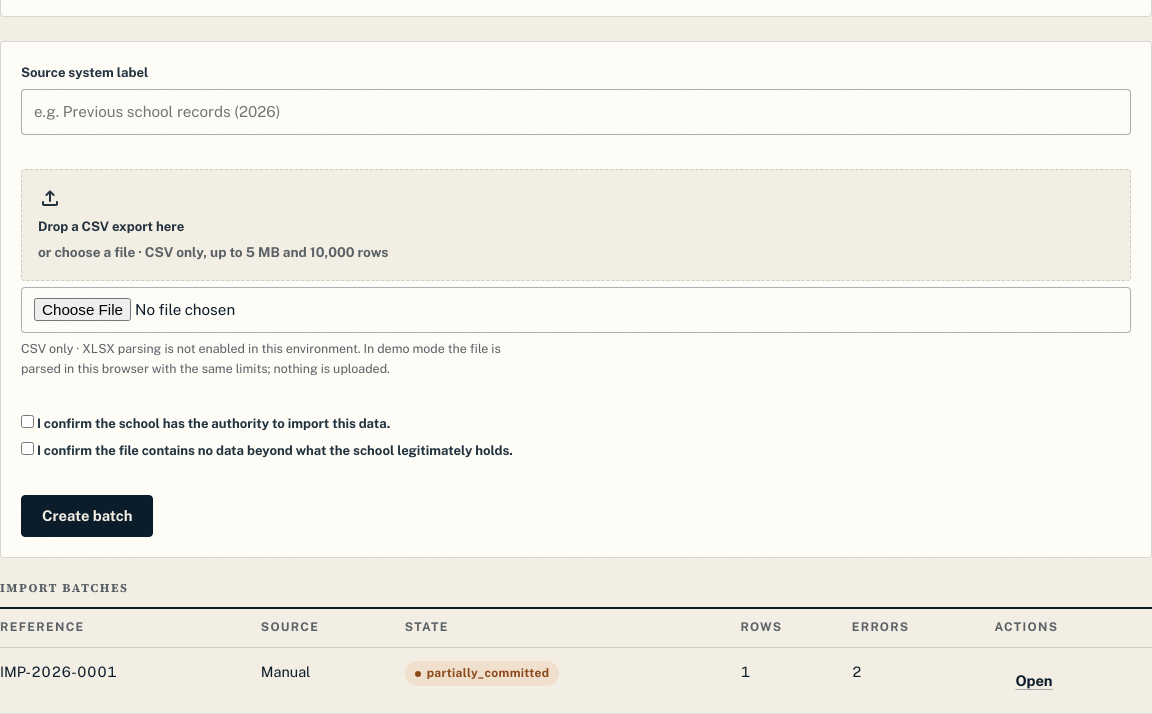
imports workspace › renders per-row outcomes and the retry path when a partially committed batch is reopened
(page scrolled)
Click the button "Open" at (1034, 681), box x1=994 y1=660 x2=1074 y2=701
(page scrolled)
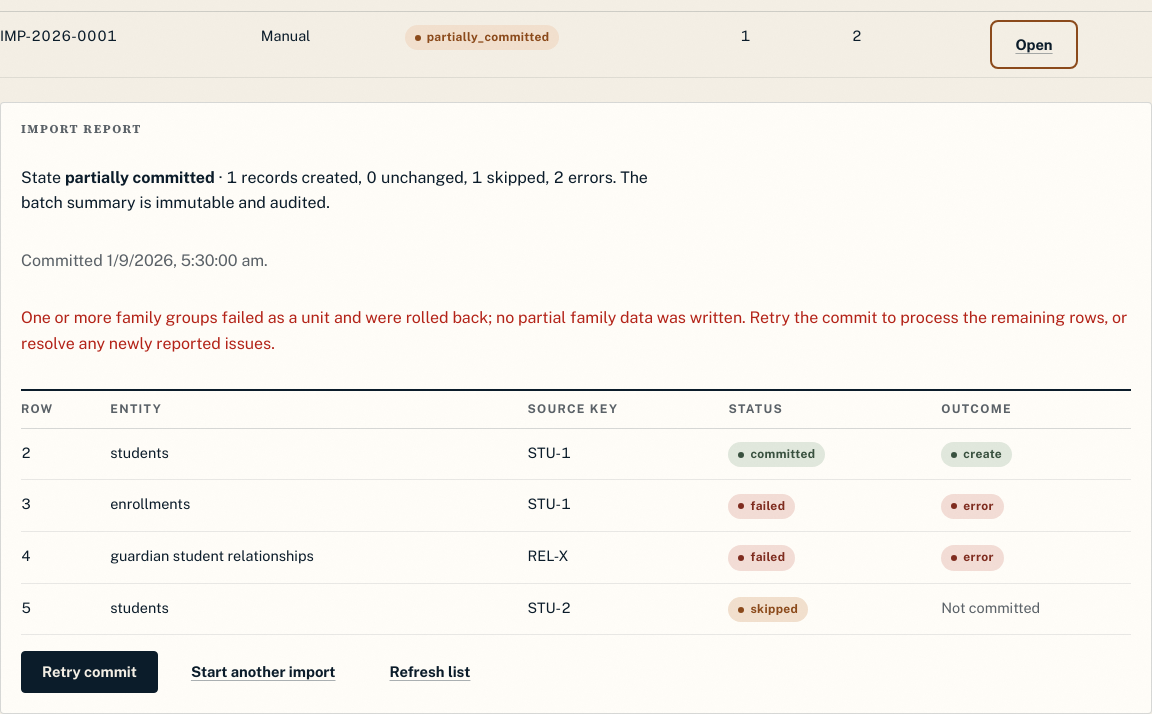
Now the heading "Import report" is shown, box x1=21 y1=121 x2=142 y2=137
Now the text "STU-1" is shown 2 times, box x1=528 y1=429 x2=728 y2=480; x1=528 y1=480 x2=728 y2=532
Now the text "REL-X" is shown, box x1=528 y1=532 x2=728 y2=583
Click the button "Retry commit" at (89, 672), box x1=21 y1=651 x2=158 y2=693
(page scrolled)
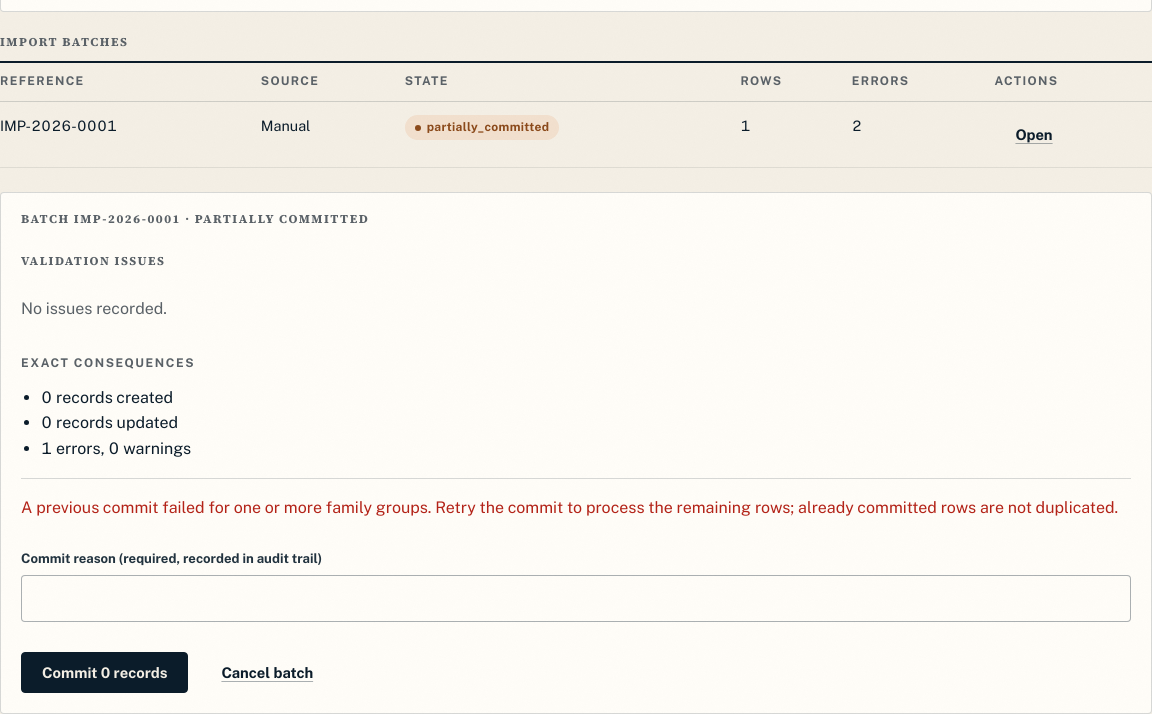
Now the field labelled "Commit reason (required, recorded in audit trail)" is shown, box x1=21 y1=575 x2=1131 y2=622
